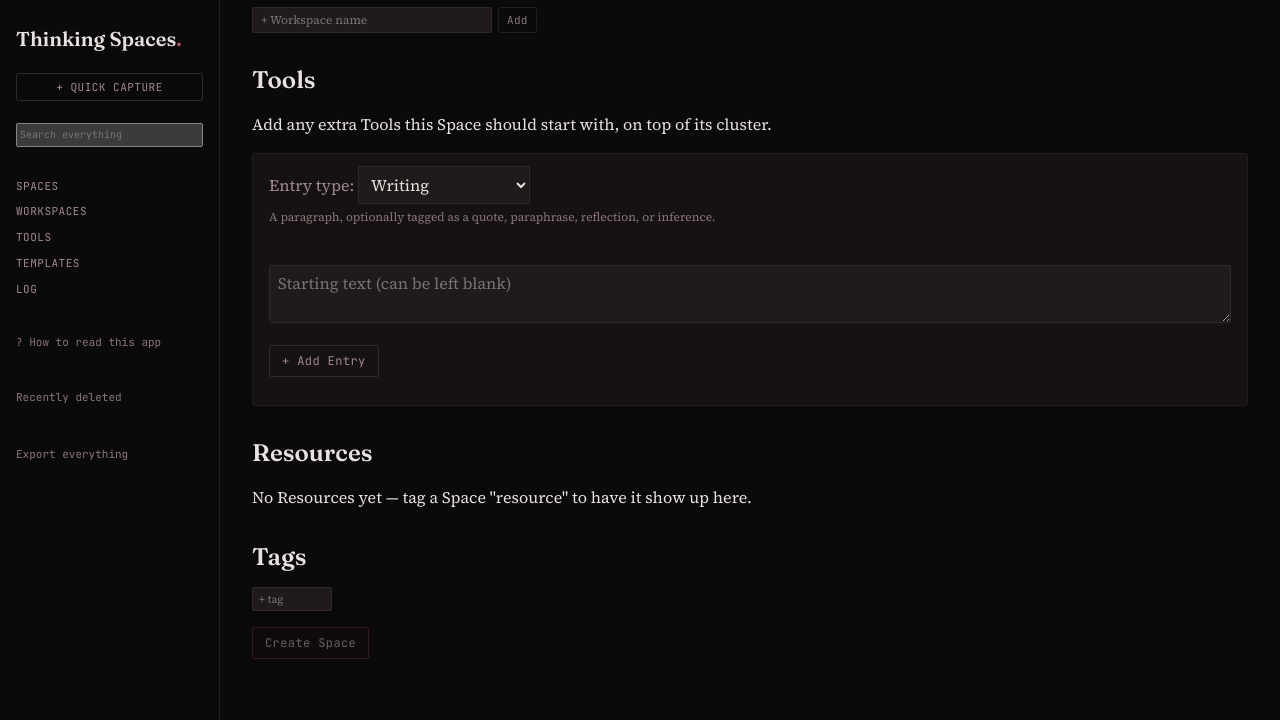
CreateSpace: Tools step › adding a block via NewBlockForm shows it in the preview list, removable
The image size is (1280, 720).
(page scrolled)
Click the button "+ Add Entry" at {"x": 324, "y": 361}, box top-left (269, 345), bottom-right (379, 377)
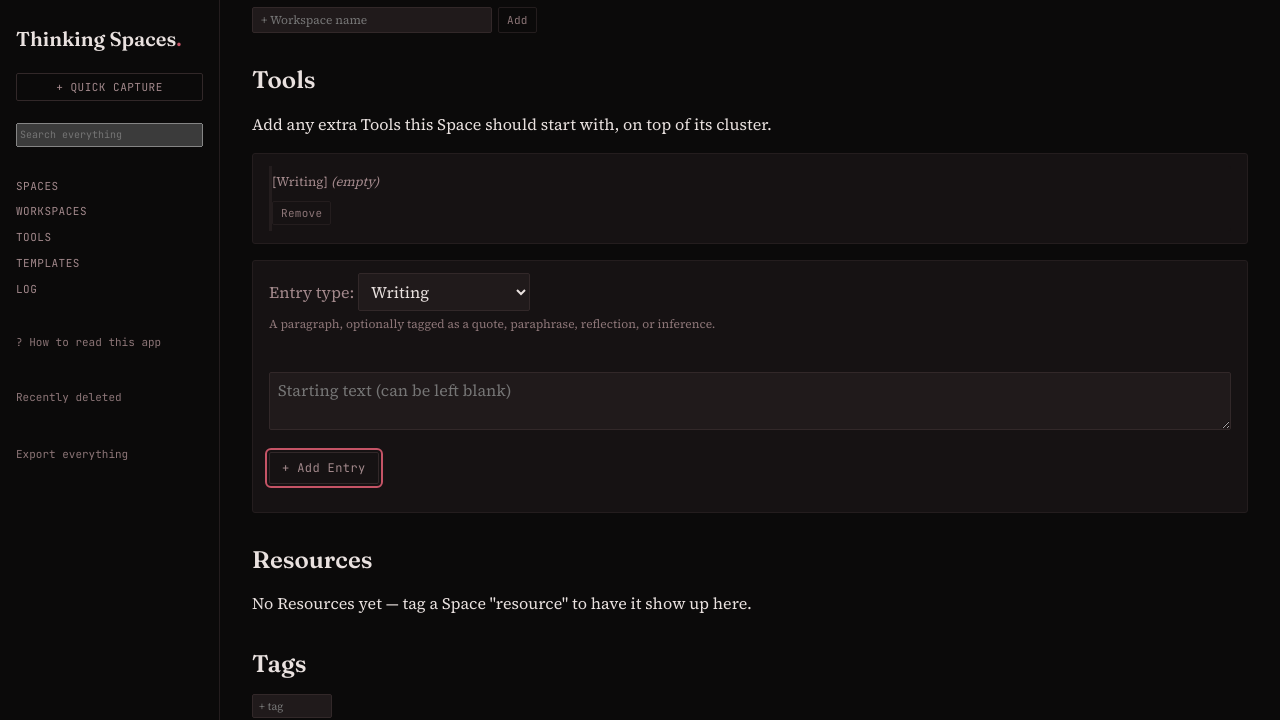
Expected: the button "Remove" is shown
Click the button "Remove" at {"x": 302, "y": 213}, box top-left (272, 201), bottom-right (331, 225)
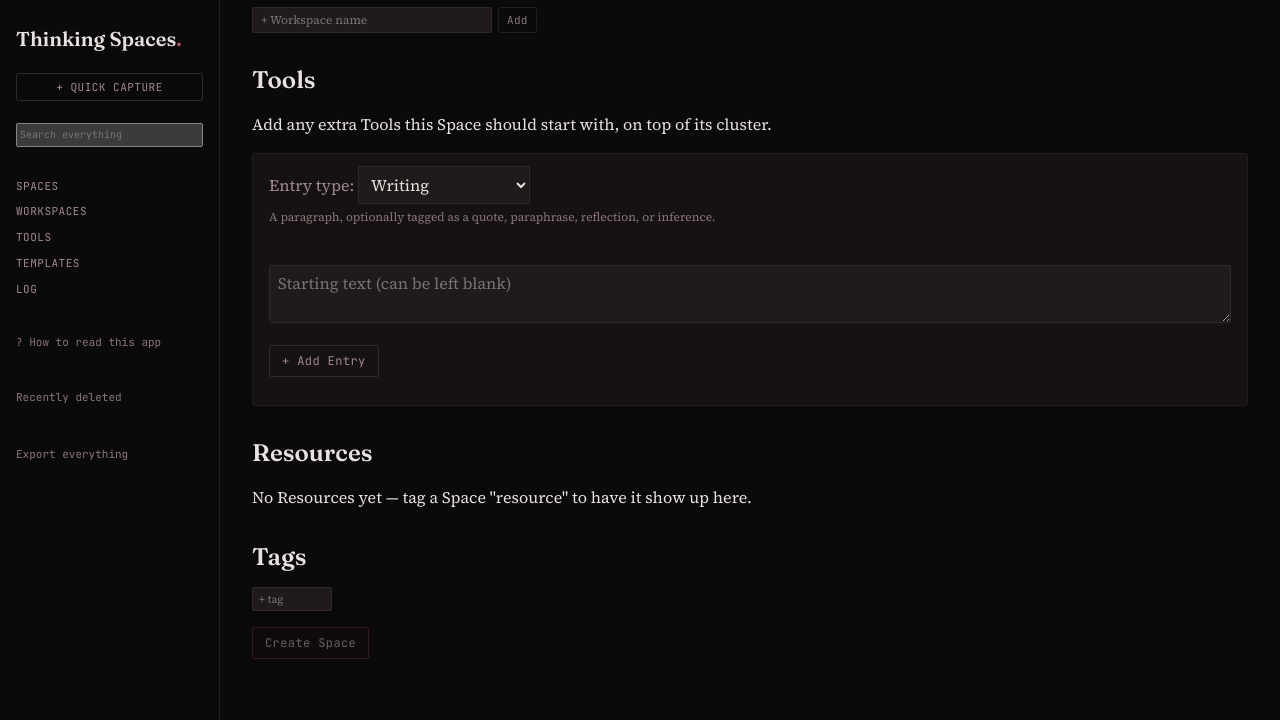
Expected: the button "Remove" is gone
